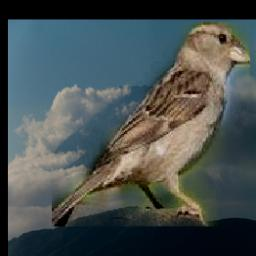Sparrow: (53, 23, 251, 227)
